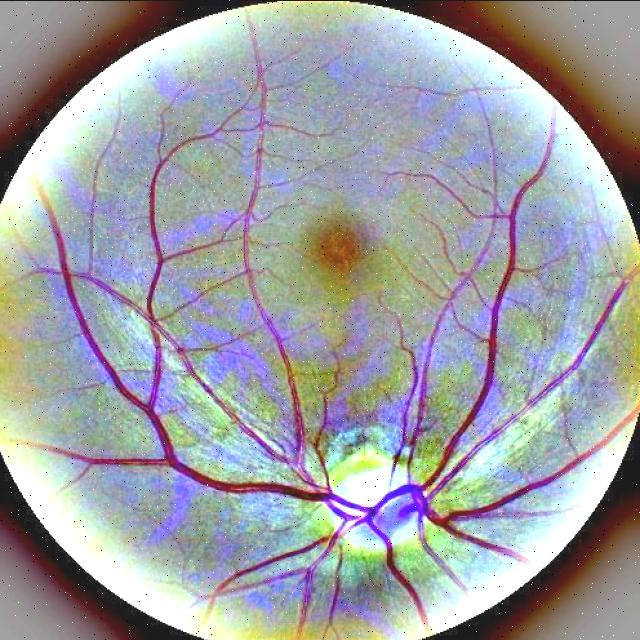Macula: (320, 227, 363, 272)
Nerves: (205, 128, 630, 640), (27, 18, 365, 510)
Optic Disk: (326, 448, 425, 545)
